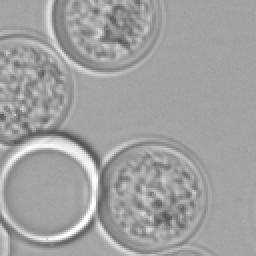picoshell: (96, 136, 210, 254), (0, 136, 98, 242), (46, 0, 164, 76), (0, 30, 76, 148), (156, 244, 212, 254), (0, 224, 8, 254)
